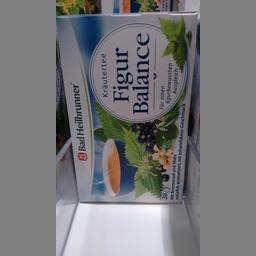tea: (56, 8, 197, 205)
